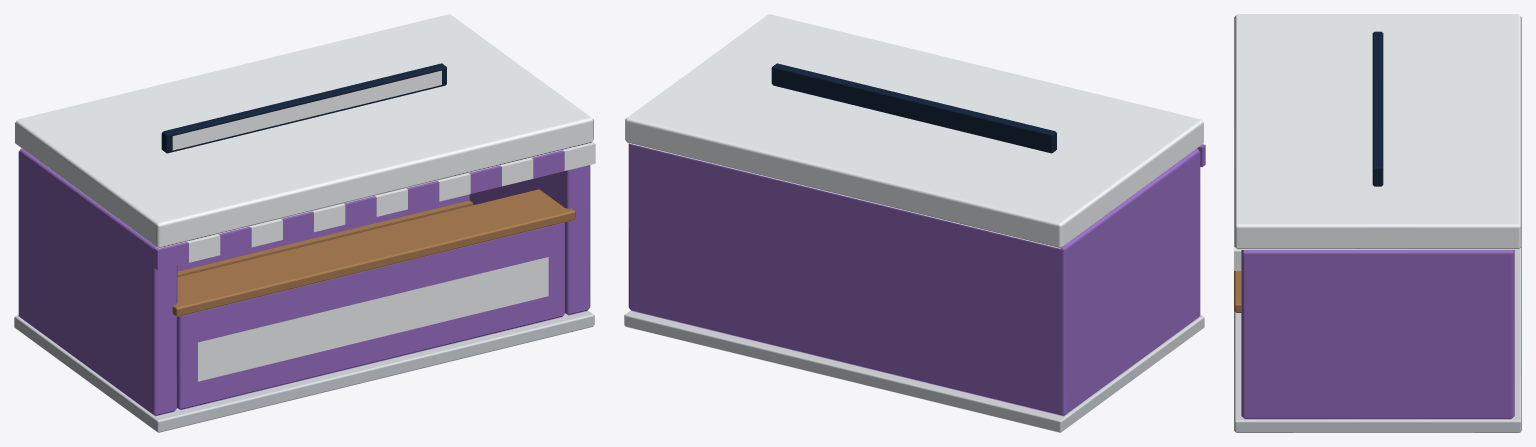
File: CM_Prop_PlazaKiosk_Purple.fbx
3 renders of one model, left to right at view 1: azimuth 30°, elevation 25°; view 2: azimuth 150°, elevation 25°; view 3: azimuth 270°, elevation 25°, orthographic.
Visible parts, largest first — view 1: Body, Face; view 2: Body, Face; view 3: Body, Face.
Part boxes in pixels (box(x1,y1,x2,y2)): Body: box(14, 14, 595, 432); Face: box(161, 63, 446, 153); Body: box(624, 14, 1205, 432); Face: box(771, 63, 1056, 153); Body: box(1234, 14, 1521, 432); Face: box(1372, 31, 1383, 186).
Bounding box in the file's own units: 14 × 8 × 7.
1 material, 1 textured.
